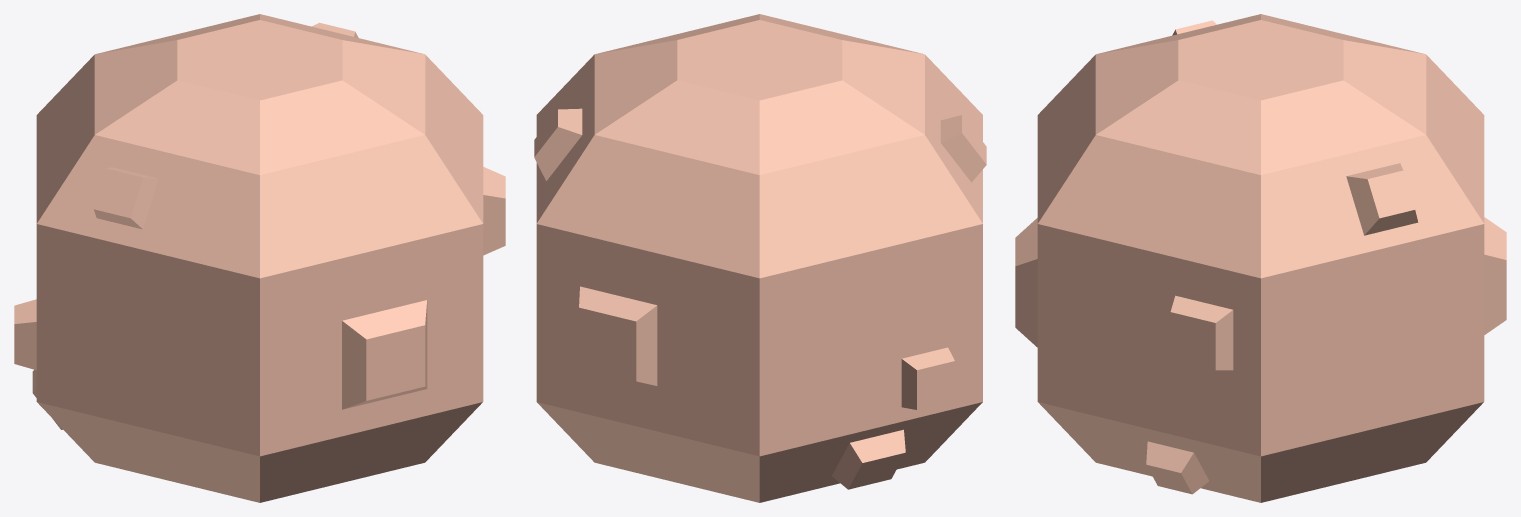
Rendered from meteor_detailed.glb.
3 views of the same model, side by side, from view 1: azimuth 30°, elevation 25°; view 2: azimuth 150°, elevation 25°; view 3: azimuth 270°, elevation 25° (orthographic).
Visible parts, largest first — view 1: meteor_detailed; view 2: meteor_detailed; view 3: meteor_detailed.
Boxes of the visible parts, left/top/right/bottom form: meteor_detailed: left=14, top=14, right=505, bottom=502; meteor_detailed: left=534, top=14, right=986, bottom=502; meteor_detailed: left=1015, top=14, right=1506, bottom=502.
Size of the model in its own units: 1.13 by 0.9555 by 1.07.
